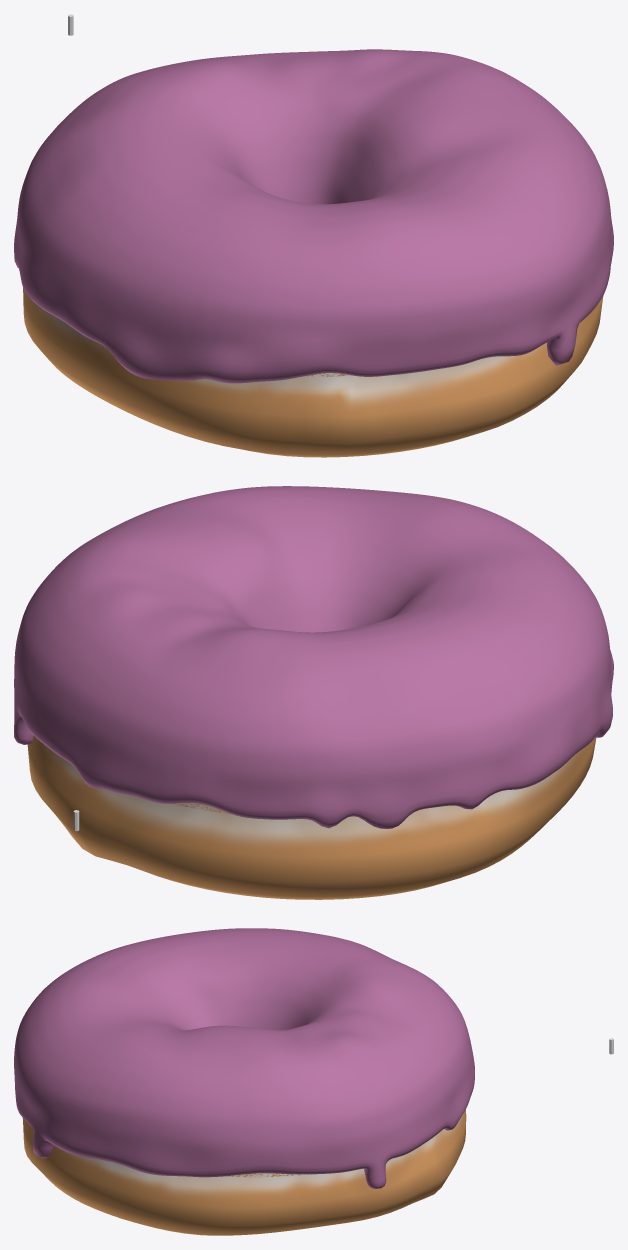
File: donut.GLB
3 views of the same model, one above another, from view 1: azimuth 30°, elevation 25°; view 2: azimuth 150°, elevation 25°; view 3: azimuth 270°, elevation 25° (orthographic). The views are drawn at different scales.
Parts seen in each view (by area): view 1: Icing, Donut; view 2: Icing, Donut; view 3: Icing, Donut.
Part boxes in pixels (left/top/right/bottom): Icing: left=14, top=49, right=613, bottom=383; Donut: left=23, top=288, right=603, bottom=457; Icing: left=14, top=486, right=613, bottom=828; Donut: left=27, top=736, right=596, bottom=899; Icing: left=14, top=928, right=474, bottom=1188; Donut: left=22, top=1110, right=466, bottom=1235.
Size of what is drawn, in the model's own units: 0.1003 by 0.0437 by 0.1315.
2 materials, 1 textured.
